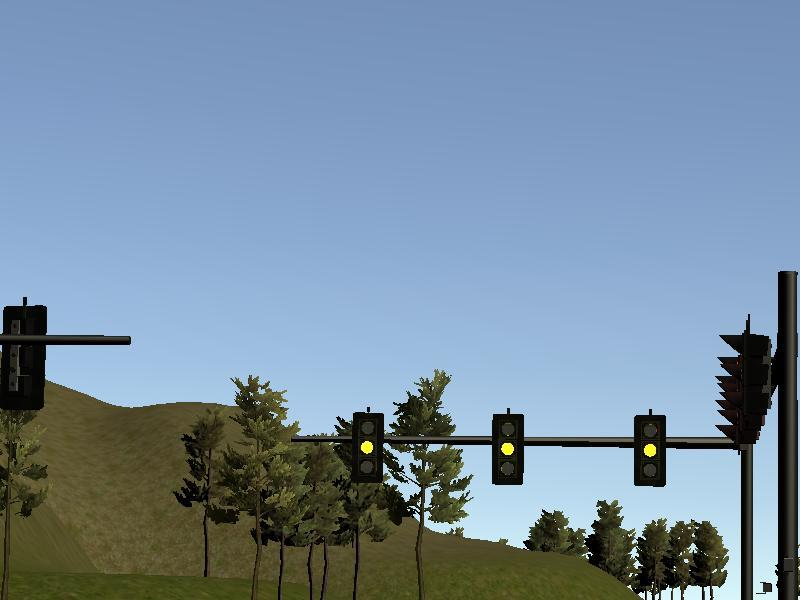Yellow: (491, 413, 525, 486), (634, 415, 666, 487), (352, 411, 384, 482)
